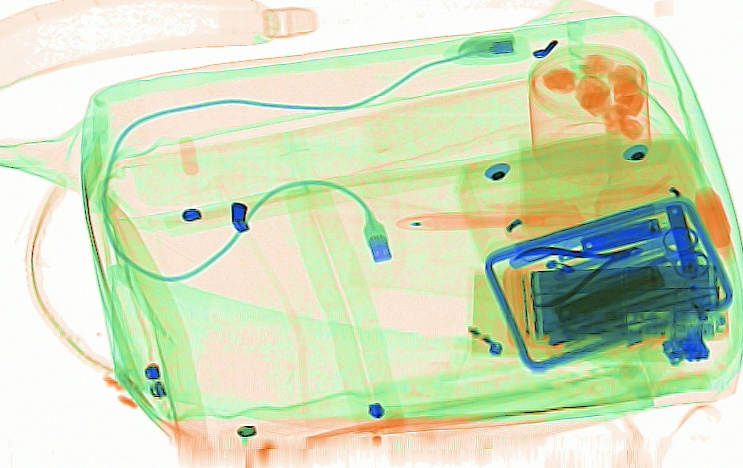powerbank: (521, 256, 726, 345)
scissors: (593, 225, 710, 286)
